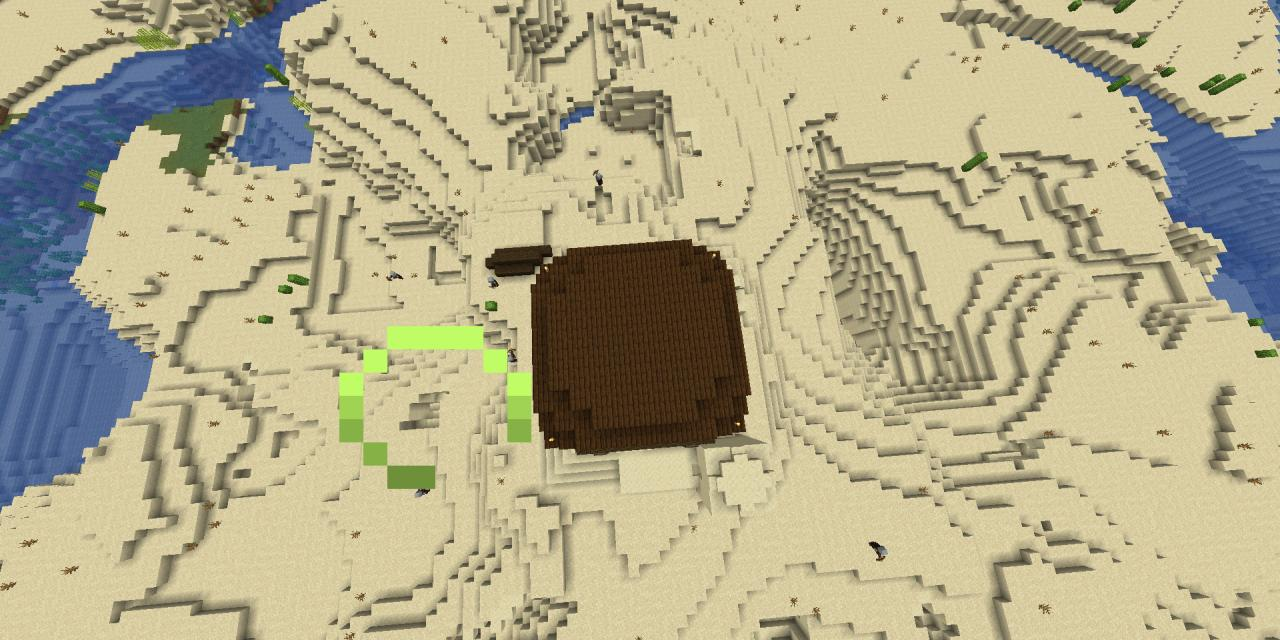desert temple: (534, 427, 810, 504)
pillager outpost: (517, 228, 771, 470)
